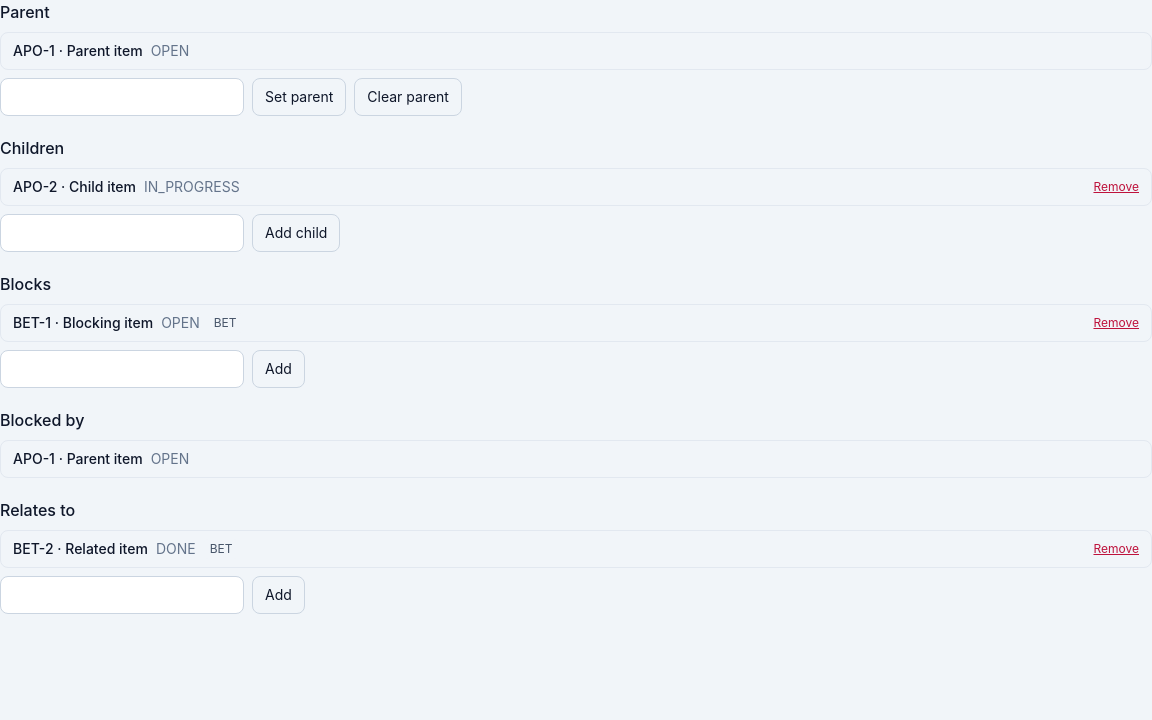
LinksTab › scopes and excludes existing links from Relates to item
The image size is (1152, 720).
Type "item" into the dropdown named "Relates to item" at (122, 595), box [0, 576, 244, 614]
(page scrolled)
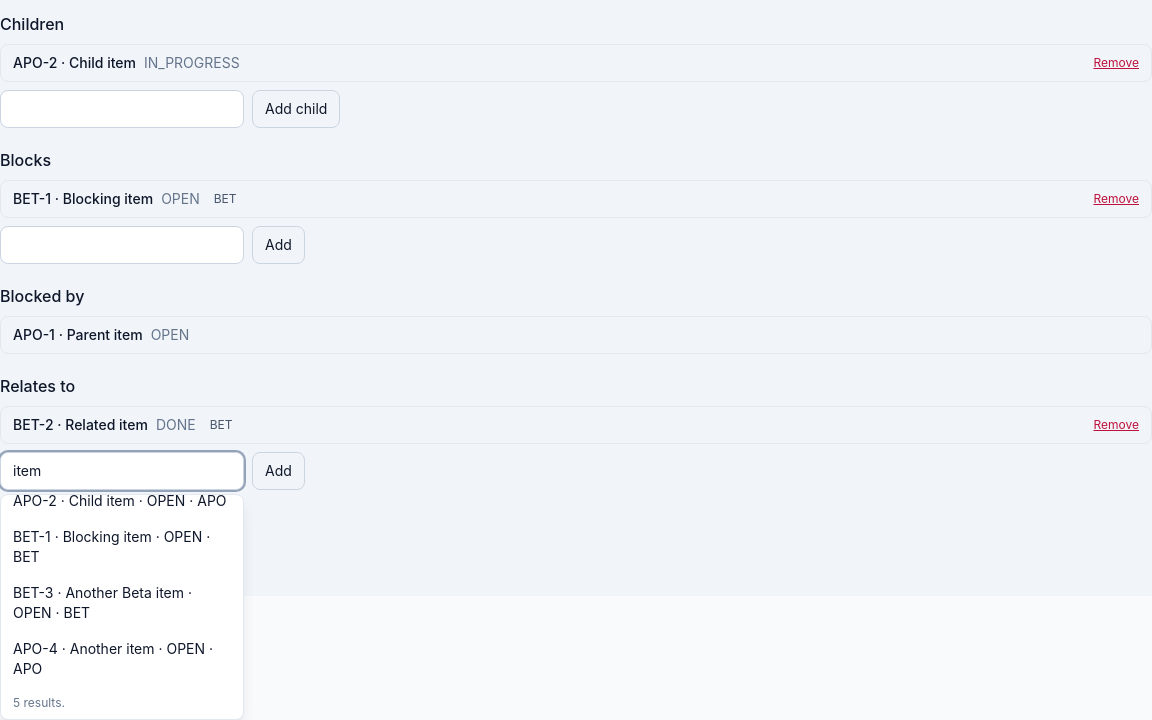
Result: the option "APO-4 · Another item · OPEN · APO" is shown at [13, 640, 213, 677]
Result: the option "BET-3 · Another Beta item · OPEN · BET" is shown at [13, 584, 192, 621]
